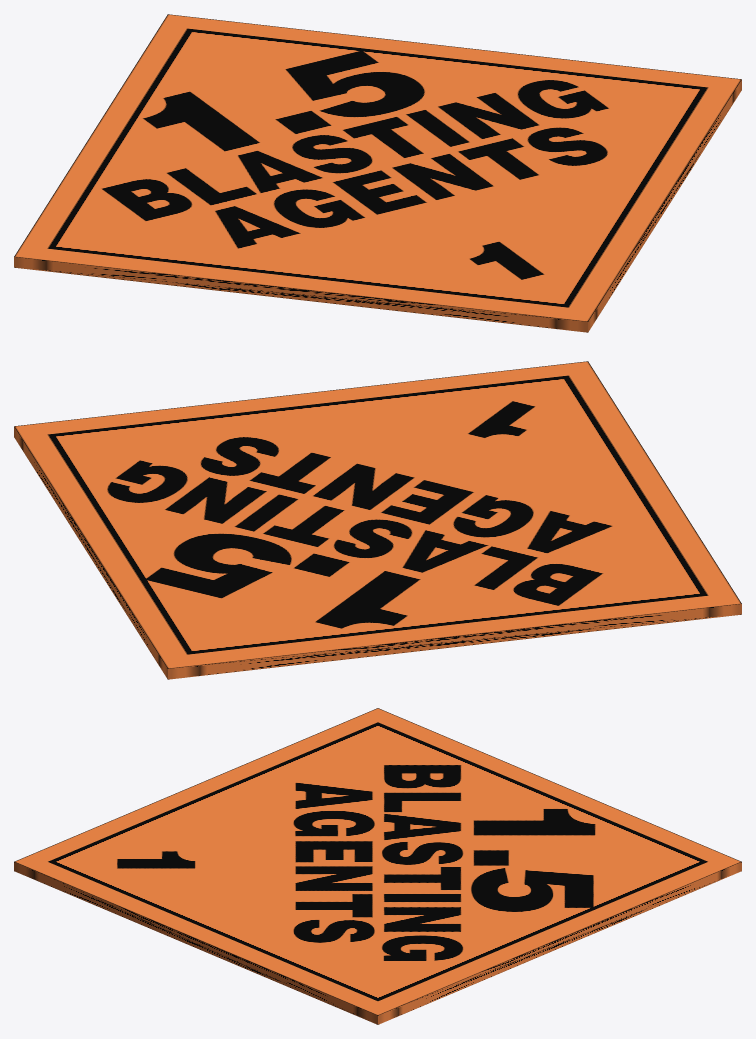
File: hazmat_blasting-agents.dae
The picture shows the model from 3 angles, top to bottom: view 1: azimuth 30°, elevation 25°; view 2: azimuth 150°, elevation 25°; view 3: azimuth 270°, elevation 25°; orthographic projection. The views are drawn at different scales.
Parts seen in each view (by area): view 1: Sign_Material.008; view 2: Sign_Material.008; view 3: Sign_Material.008.
Part boxes in pixels (x1,y1,x2,y2): Sign_Material.008: (14,14,741,332); Sign_Material.008: (14,361,741,679); Sign_Material.008: (14,708,741,1024).
Size of the model in its own units: 0.1485 by 0.1485 by 0.0021.
1 material, 1 textured.
